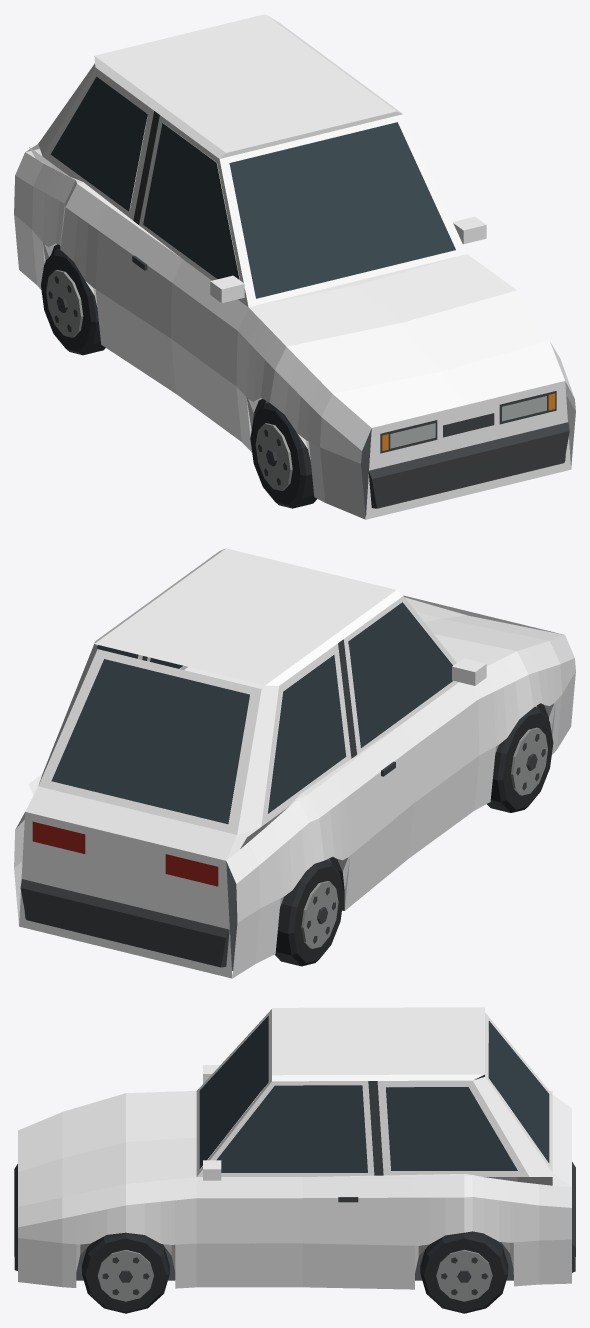
The model's file is castellani_tufo.glb.
The picture shows the model from 3 angles, top to bottom: view 1: azimuth 30°, elevation 25°; view 2: azimuth 150°, elevation 25°; view 3: azimuth 270°, elevation 25°; orthographic projection. The views are drawn at different scales.
Parts seen in each view (by area): view 1: castellani_tufo; view 2: castellani_tufo; view 3: castellani_tufo.
Part boxes in pixels (x1,y1,x2,y2): castellani_tufo: (14, 14, 575, 519); castellani_tufo: (14, 548, 575, 978); castellani_tufo: (14, 1007, 575, 1313).
Bounding box in the file's own units: 1.61 × 1.61 × 3.65.
Materials: 8 (1 with a texture image).
